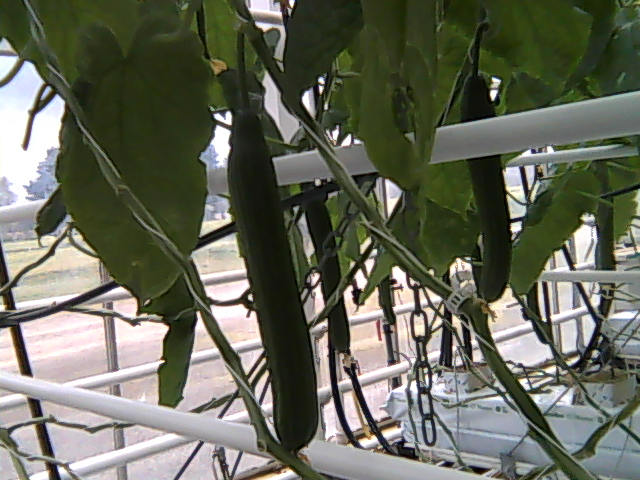concombre: (224, 99, 323, 455)
